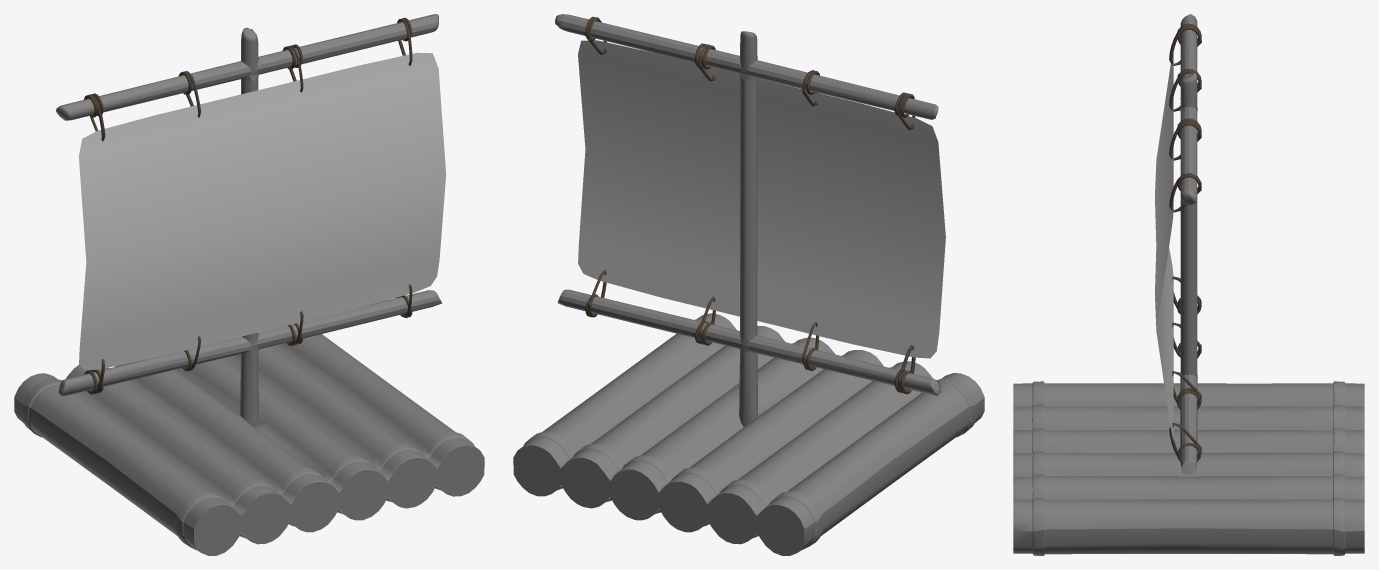
File: BALSA.fbx
3 views of the same model, side by side, from view 1: azimuth 30°, elevation 25°; view 2: azimuth 150°, elevation 25°; view 3: azimuth 270°, elevation 25° (orthographic). The views are drawn at different scales.
Visible parts, largest first — view 1: VELA, BALSA, NUDOS; view 2: VELA, BALSA, NUDOS; view 3: BALSA, VELA, NUDOS.
Part boxes in pixels (left/top/right/bottom): VELA: left=79, top=52, right=446, bottom=370; BALSA: left=14, top=14, right=484, bottom=555; NUDOS: left=83, top=17, right=412, bottom=394; VELA: left=578, top=40, right=945, bottom=358; BALSA: left=513, top=14, right=984, bottom=555; NUDOS: left=585, top=16, right=915, bottom=394; BALSA: left=1013, top=14, right=1364, bottom=555; VELA: left=1155, top=52, right=1173, bottom=440; NUDOS: left=1169, top=23, right=1201, bottom=461.
Size of the model in its own units: 230 by 249 by 188.
